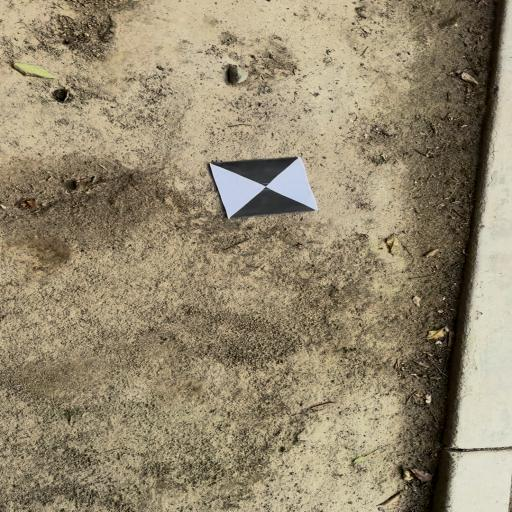target: (209, 157, 319, 219)
